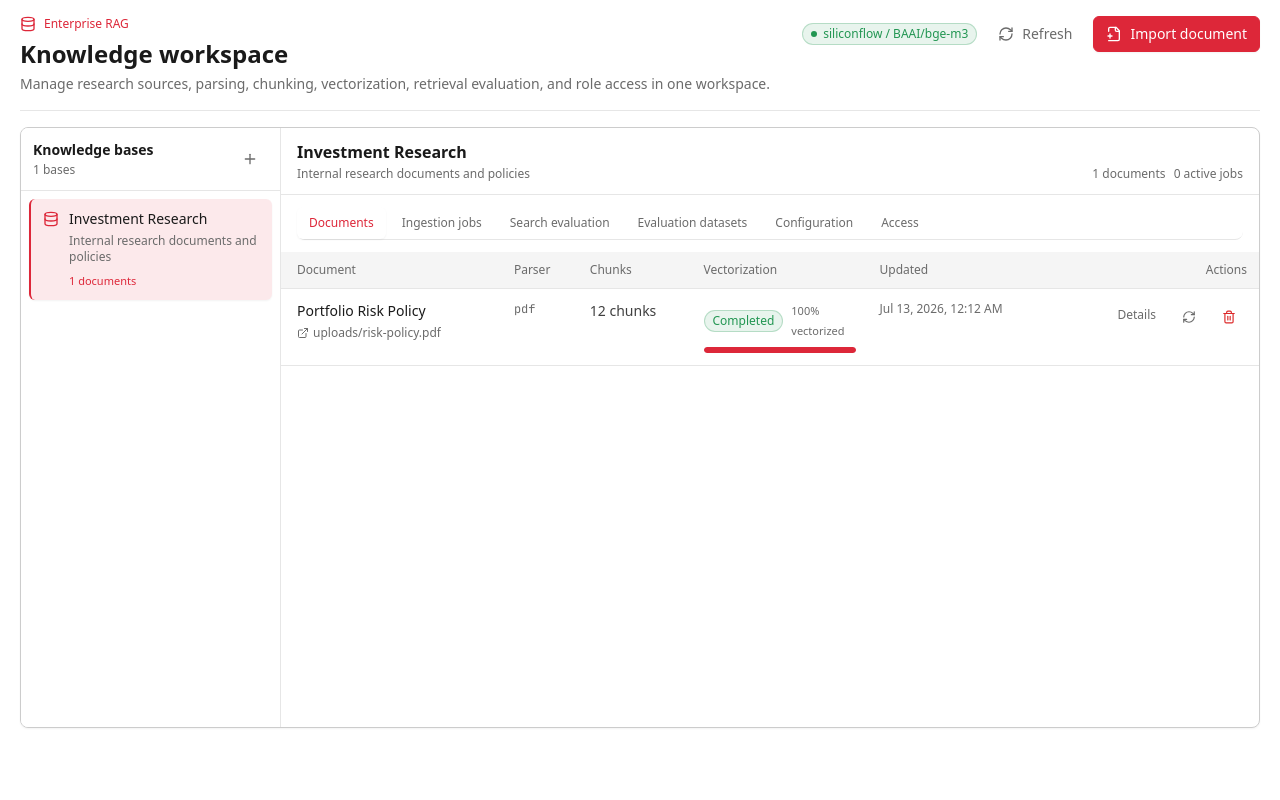
it: Knowledge workspace › renders a standalone document workspace with vectorization and chunk details
Check: the heading "Knowledge workspace" is shown, box 20,37 -> 288,70
Check: the text "Portfolio Risk Policy" is shown, box 297,301 -> 441,321
Click the button with aria-label "Open Portfolio Risk Policy": (369,321) 297,301 -> 441,341
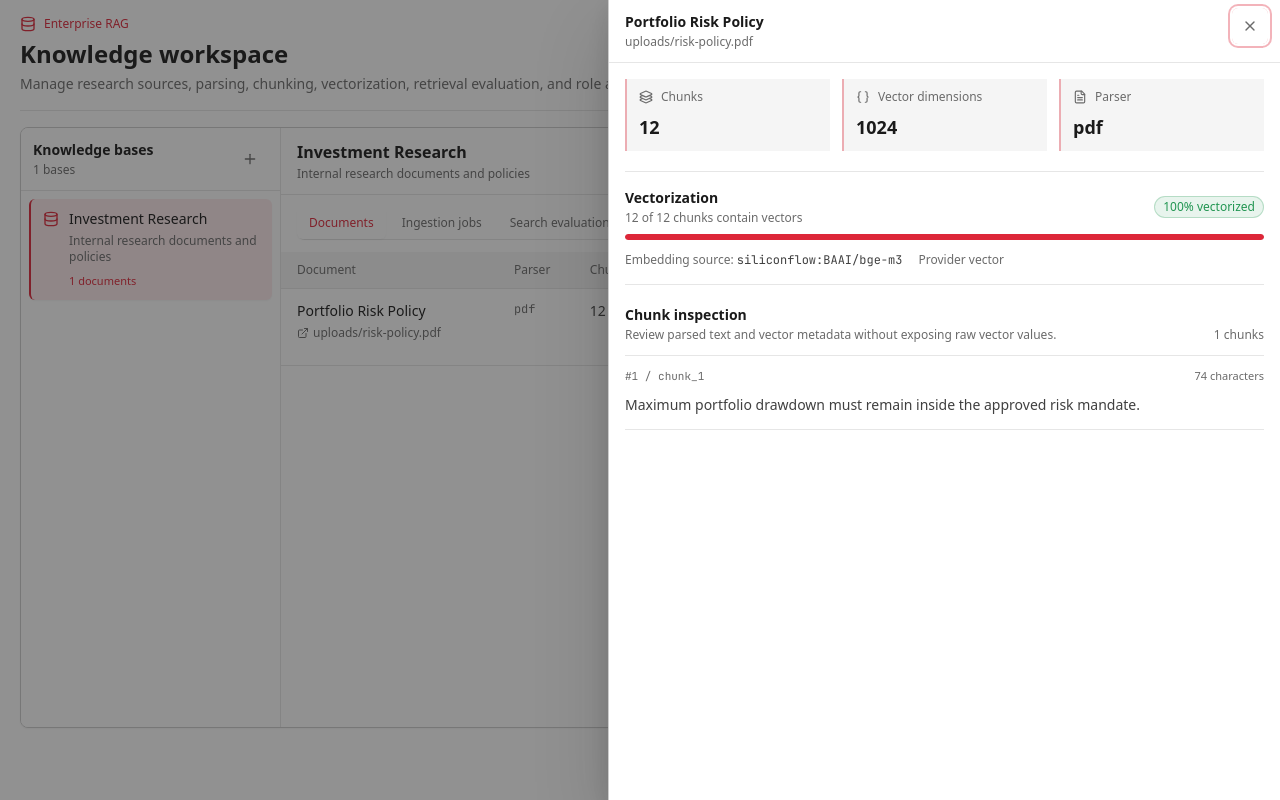
Check: the text "siliconflow:BAAI/bge-m3" is shown, box 737,252 -> 902,268
Check: the text "Maximum portfolio drawdown" is shown, box 625,394 -> 1140,414
